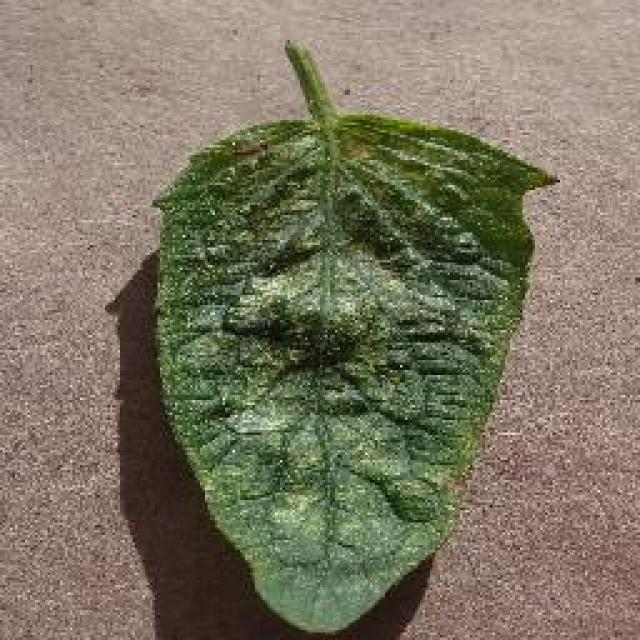Tomato___Spider_mites Two-spotted_spider_mite: (155, 40, 548, 630)
